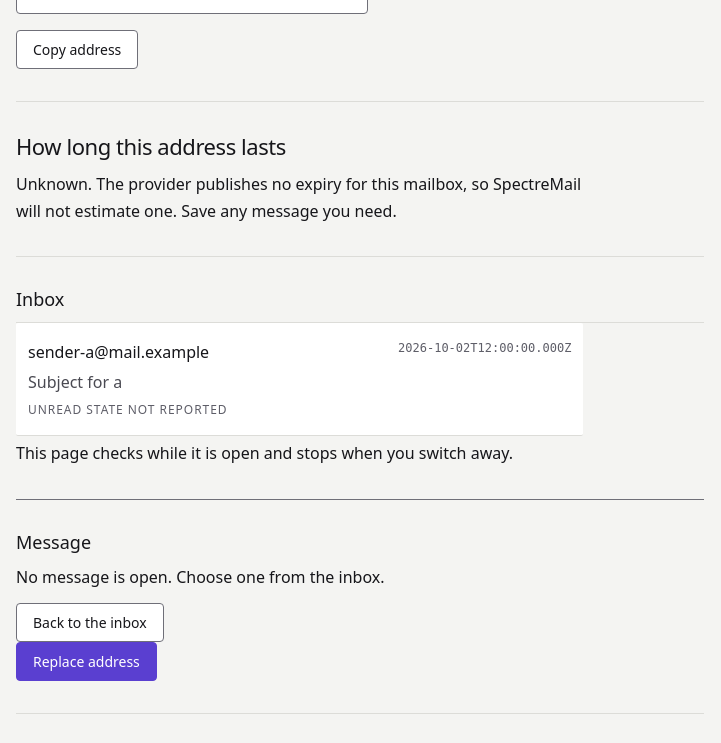
Test: the message view › what an opened message shows › says a message it read and found nothing in, as a finding
(page scrolled)
Click the button with test id "inbox-row-open".
click(119, 352)  # box [16,323,583,436]
(page scrolled)
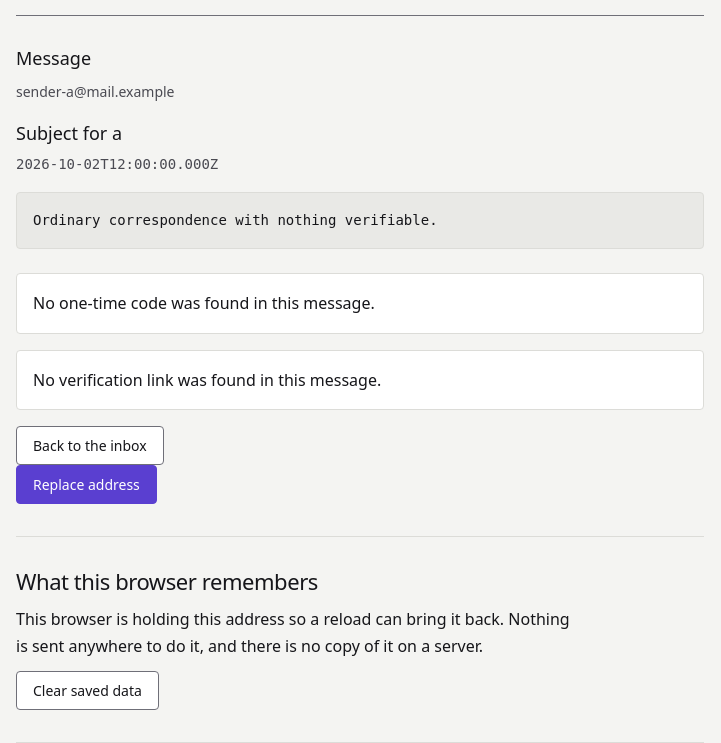
Expected: the element with test id "message-opened" is shown, [16,80,704,410]
